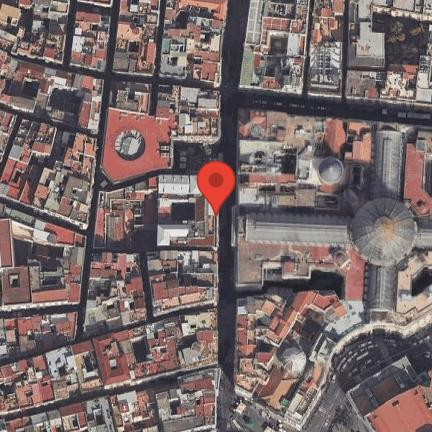area_open: (307, 331, 432, 431), (219, 395, 296, 432), (235, 276, 343, 294), (12, 241, 65, 273), (176, 144, 230, 174), (51, 91, 82, 115), (131, 339, 151, 364), (174, 202, 197, 220), (174, 335, 197, 350), (53, 133, 69, 153), (22, 80, 40, 97), (412, 274, 430, 291), (99, 174, 113, 190), (85, 357, 93, 374), (23, 14, 31, 26)
built: (231, 111, 432, 431), (0, 309, 219, 415), (0, 371, 220, 430), (100, 81, 218, 182), (0, 118, 96, 232), (93, 174, 220, 249), (0, 206, 87, 312), (345, 0, 432, 105), (0, 52, 104, 134), (237, 0, 310, 94), (344, 354, 431, 432), (160, 0, 230, 84), (84, 253, 149, 336), (146, 251, 218, 317), (0, 0, 69, 64), (307, 0, 345, 99), (0, 313, 77, 361), (113, 0, 161, 74), (69, 12, 111, 73), (0, 107, 16, 162), (77, 0, 112, 7)
